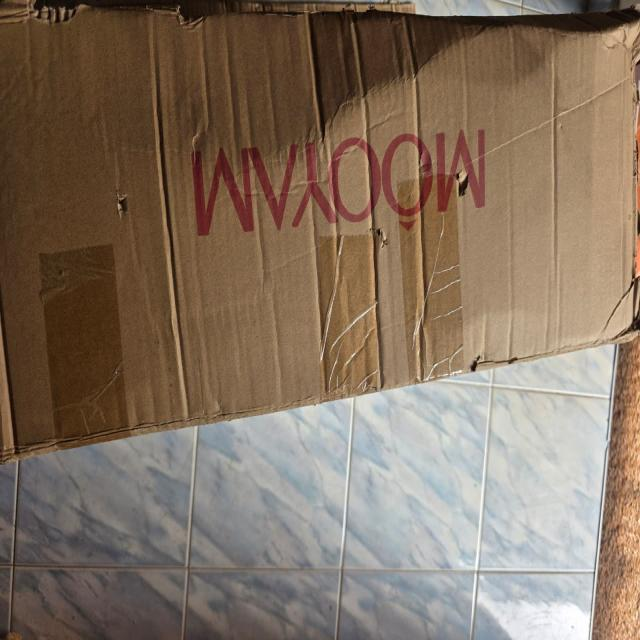carton_box: (0, 0, 640, 459)
package_damage: (0, 0, 409, 39), (449, 344, 525, 386), (104, 180, 150, 241), (368, 203, 402, 268), (450, 147, 477, 218)
